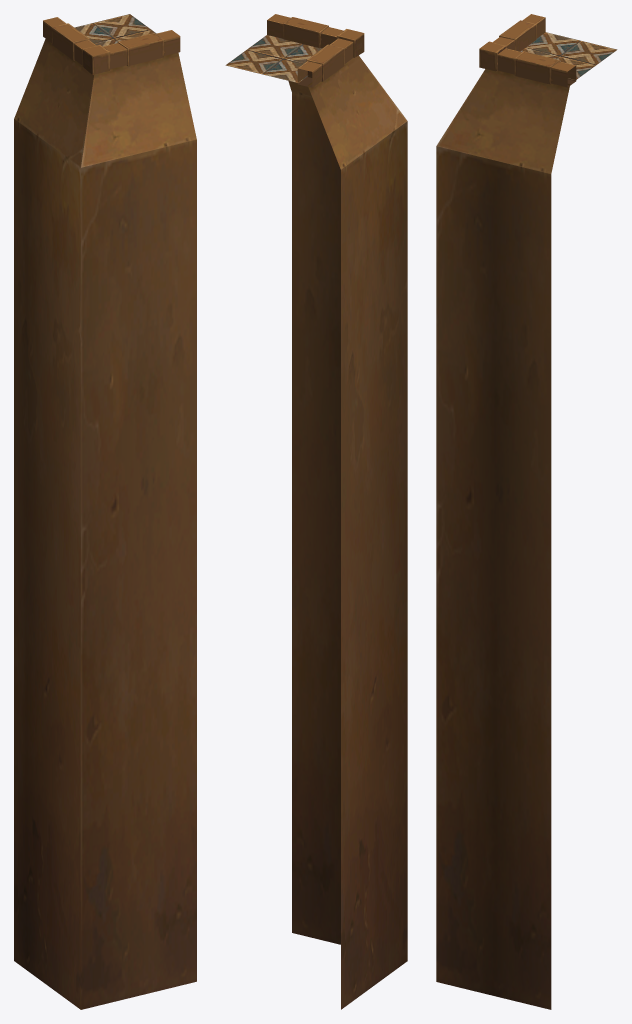
Rendered from shakian_cliff_base24_wallunder01_03.FBX.
3 renders of one model, left to right at view 1: azimuth 30°, elevation 25°; view 2: azimuth 150°, elevation 25°; view 3: azimuth 330°, elevation 25°, orthographic.
Visible parts, largest first — view 1: shakian_cliff_base24_wallunder01_03; view 2: shakian_cliff_base24_wallunder01_03; view 3: shakian_cliff_base24_wallunder01_03.
Boxes of the visible parts, bbox=[...] form: shakian_cliff_base24_wallunder01_03: bbox=[14, 14, 196, 1009]; shakian_cliff_base24_wallunder01_03: bbox=[225, 14, 407, 1009]; shakian_cliff_base24_wallunder01_03: bbox=[436, 14, 617, 1009].
Size of the model in its own units: 3.17 by 24.44 by 3.17.
